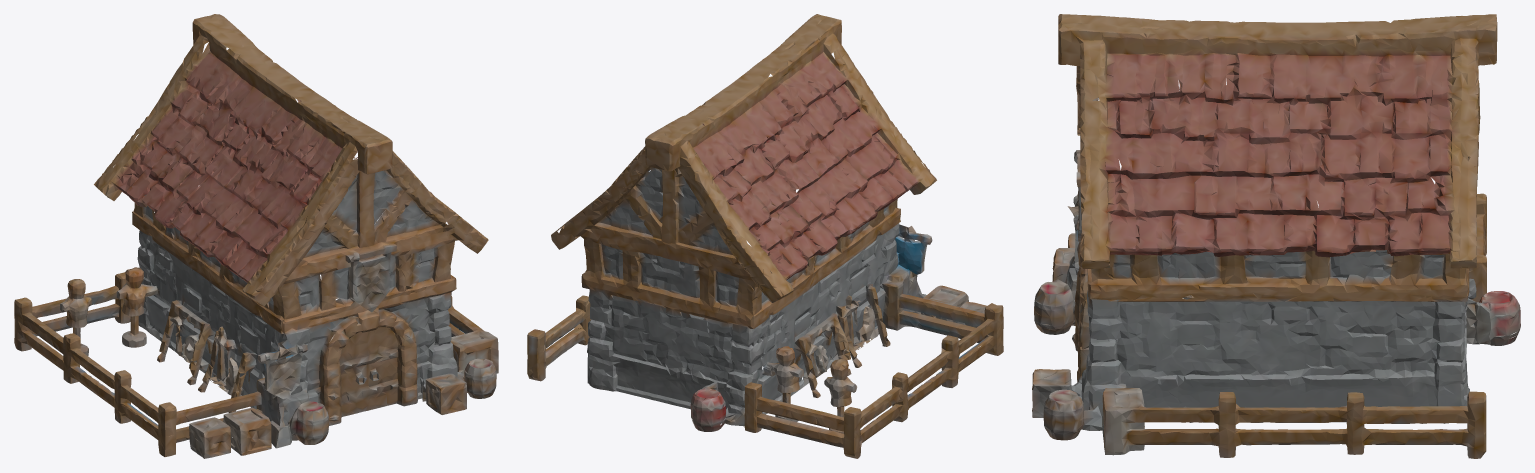
Rendered from building_barracks_lod0.glb.
3 views of the same model, side by side, from view 1: azimuth 30°, elevation 25°; view 2: azimuth 150°, elevation 25°; view 3: azimuth 270°, elevation 25° (orthographic). The views are drawn at different scales.
Parts seen in each view (by area): view 1: world; view 2: world; view 3: world.
Part boxes in pixels (x1=…): world: x1=14, y1=14, x2=498, y2=458; world: x1=527, y1=14, x2=1003, y2=458; world: x1=1032, y1=14, x2=1520, y2=458.
Bounding box in the file's own units: 1.89 × 1.51 × 1.9.
